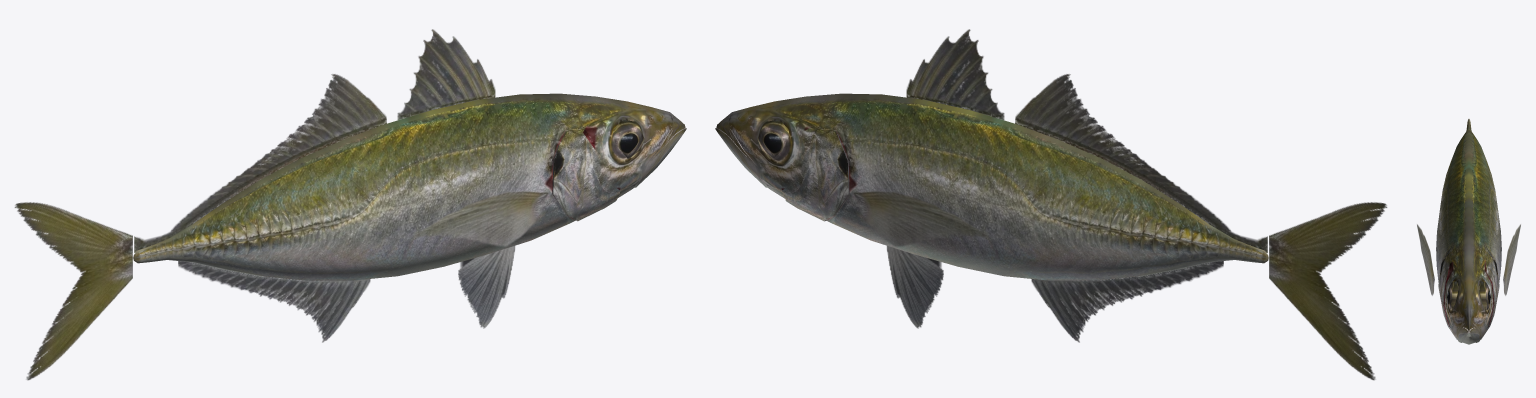
File: aji_lo.glb
3 renders of one model, left to right at view 1: azimuth 30°, elevation 25°; view 2: azimuth 150°, elevation 25°; view 3: azimuth 270°, elevation 25°, orthographic. The views are drawn at different scales.
Visible parts, largest first — view 1: aji; view 2: aji; view 3: aji.
Part boxes in pixels (x1,y1,x2,y2): aji: [14, 29, 686, 380]; aji: [715, 29, 1387, 380]; aji: [1417, 119, 1520, 344].
Bounding box in the file's own units: 0.2506 × 0.1112 × 0.0446.
Materials: 1 (1 with a texture image).
